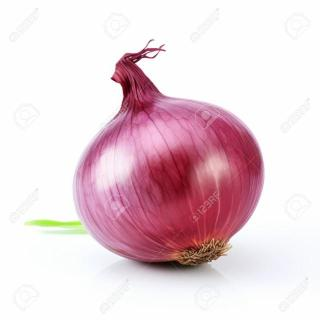Bawang Merah: (70, 37, 266, 271)
